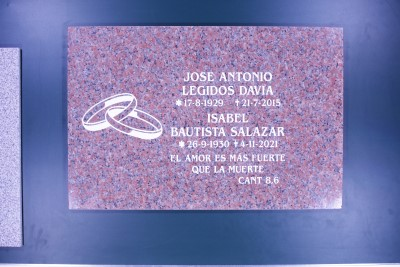lapidas: (68, 25, 342, 209)
